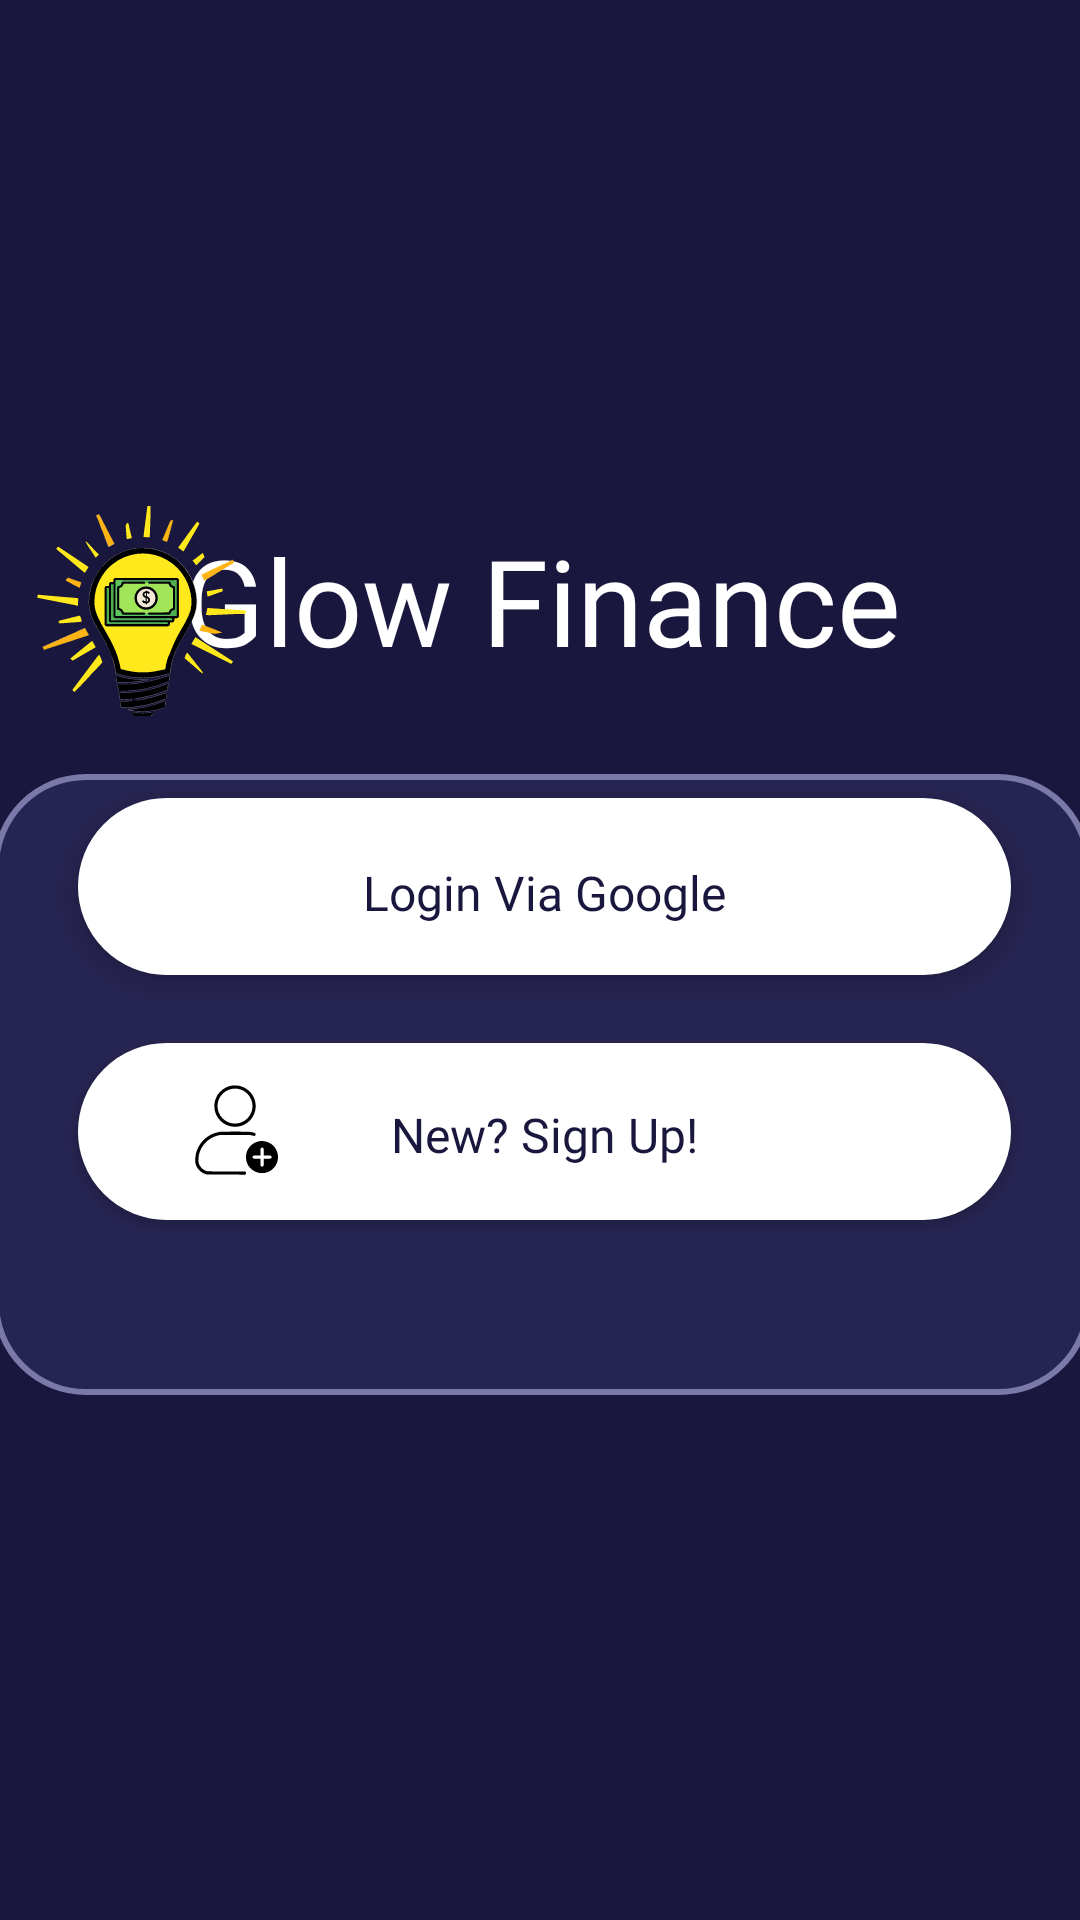

Point at icon controls on the screen. Image size 1080w x 1920h, points as point (x, y).
account: point (236, 1130)
